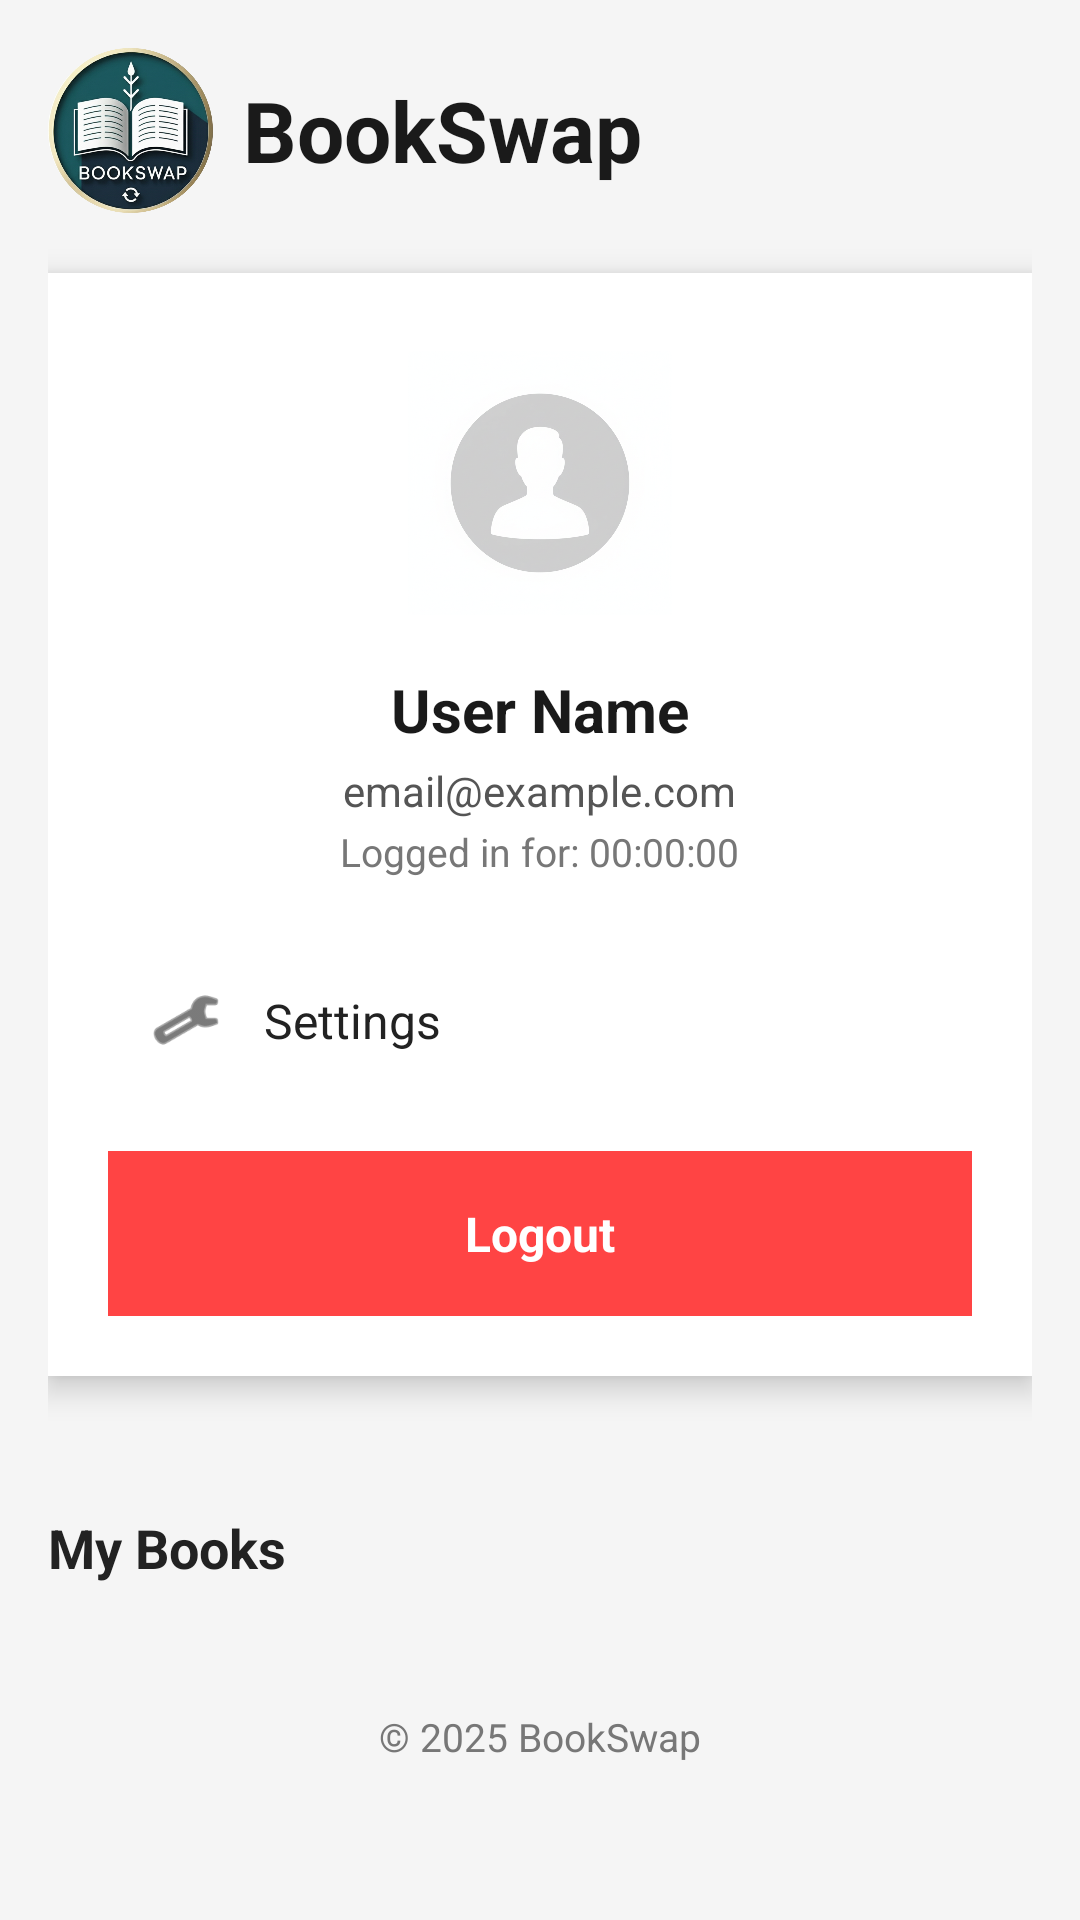

Icon bounding boxes for this 1080w x 1920h phone screenshot, format (x1, y1, x2, y2):
manage: (153, 995, 218, 1045)
profile: (451, 394, 629, 572)
